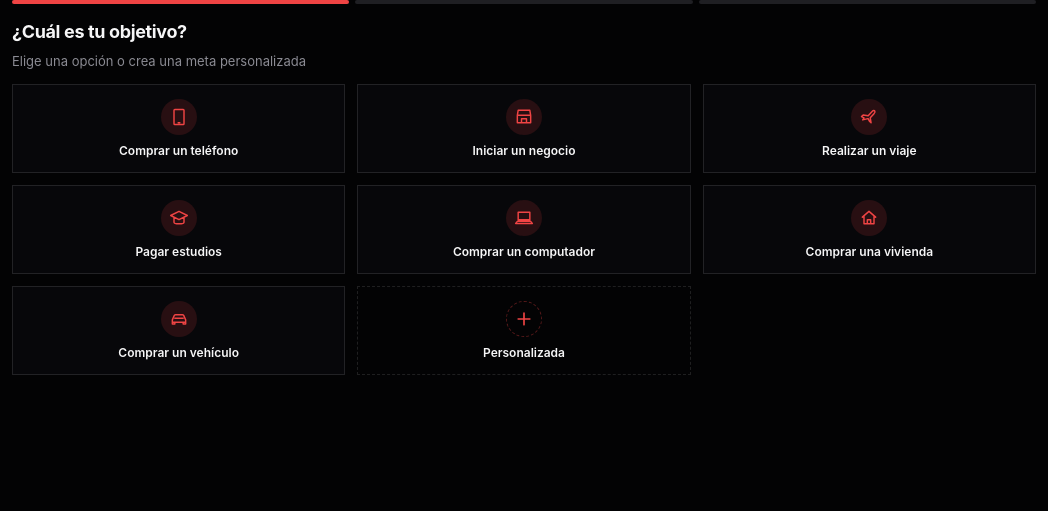
Test: CreateGoalWizard › el boton de atras en el paso 2 vuelve al paso 1
Step 1. Click the button with class "type-tile-custom" → click(524, 330), box [357, 286, 691, 375]
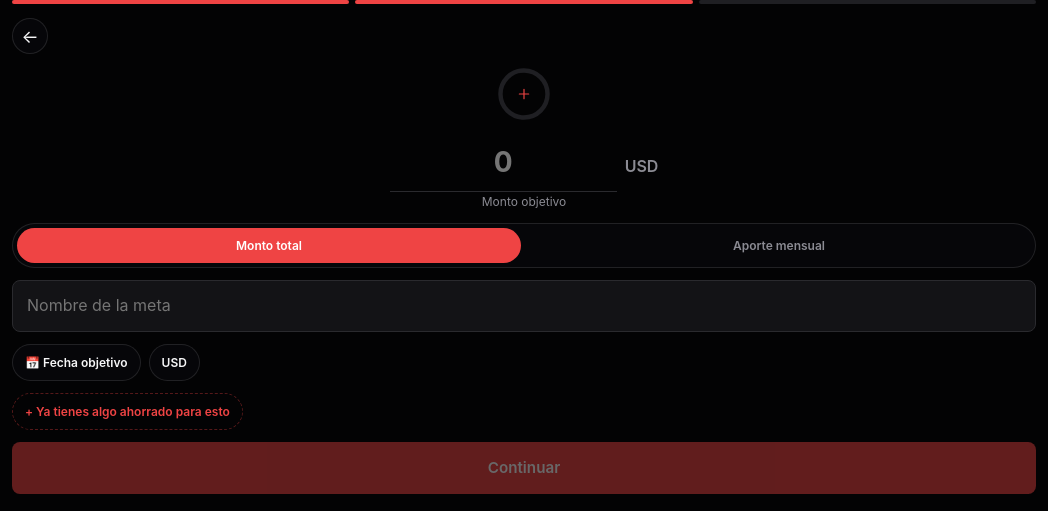
Step 2. Click the button with class "wizard-back" → click(30, 36), box [12, 18, 48, 54]
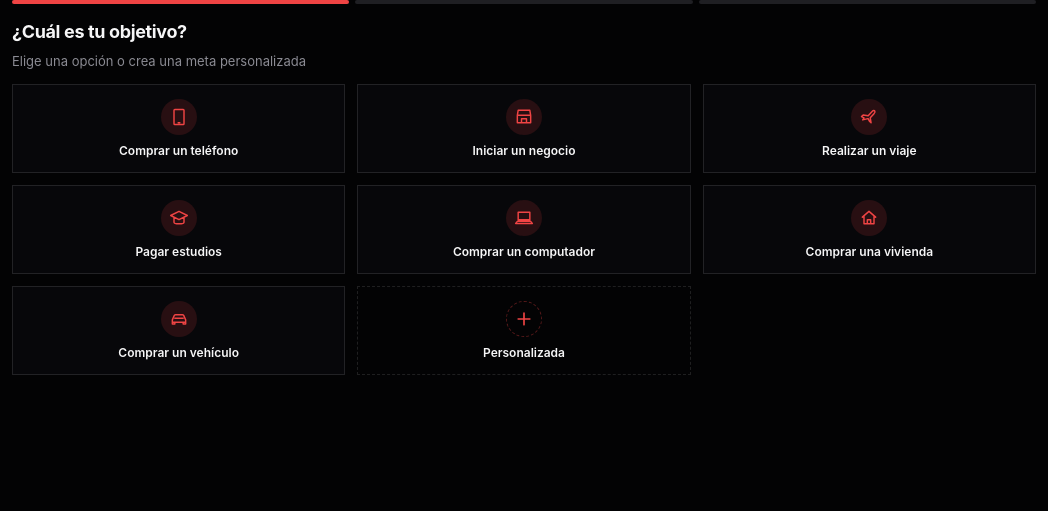
Expected: the text "¿Cuál es tu objetivo?" is shown, [12, 21, 187, 42]
